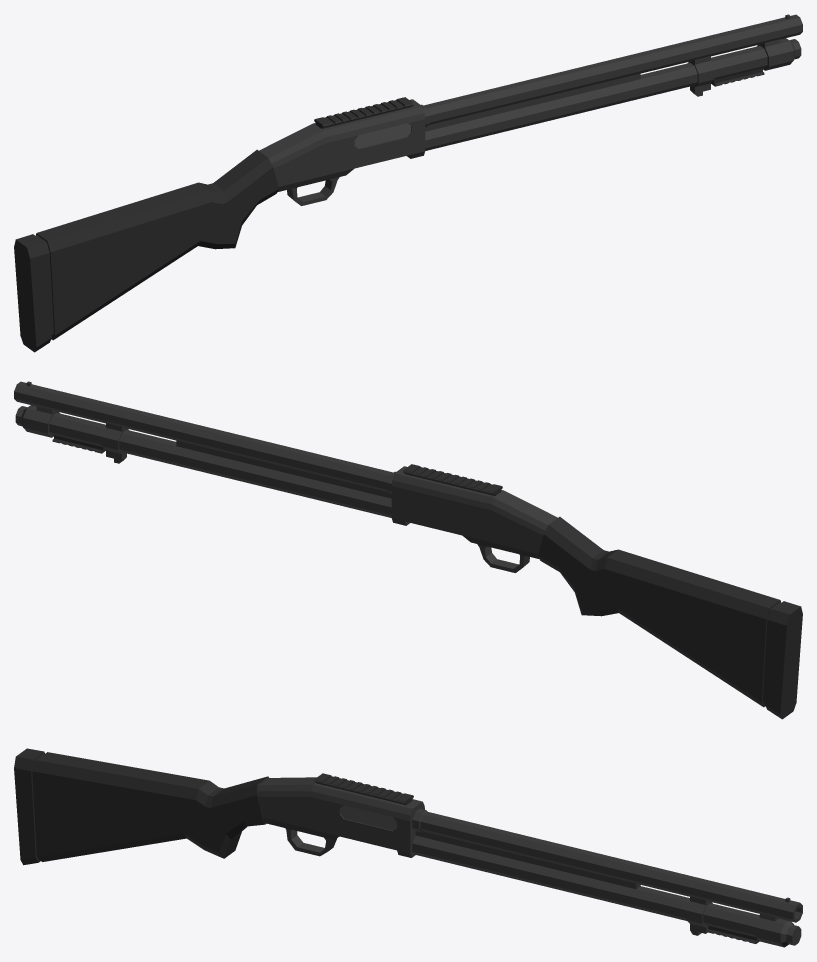
File: Shotgun3_01.fbx
3 renders of one model, top to bottom at view 1: azimuth 30°, elevation 25°; view 2: azimuth 150°, elevation 25°; view 3: azimuth 330°, elevation 25°, orthographic.
Parts seen in each view (by area): view 1: Shotgun3_01; view 2: Shotgun3_01; view 3: Shotgun3_01.
Part boxes in pixels (left/top/right/bottom): Shotgun3_01: left=14, top=14, right=802, bottom=352; Shotgun3_01: left=14, top=381, right=802, bottom=719; Shotgun3_01: left=14, top=748, right=802, bottom=947.
Size of the model in its own units: 1.18 by 0.226 by 0.0424.
